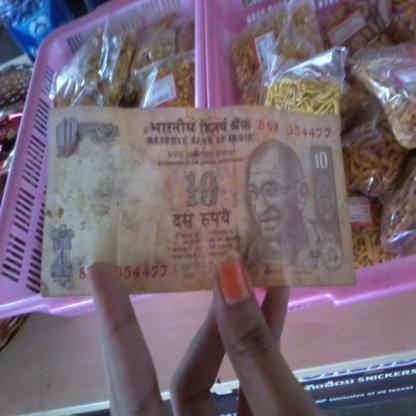Old10Front: (41, 104, 356, 300)
